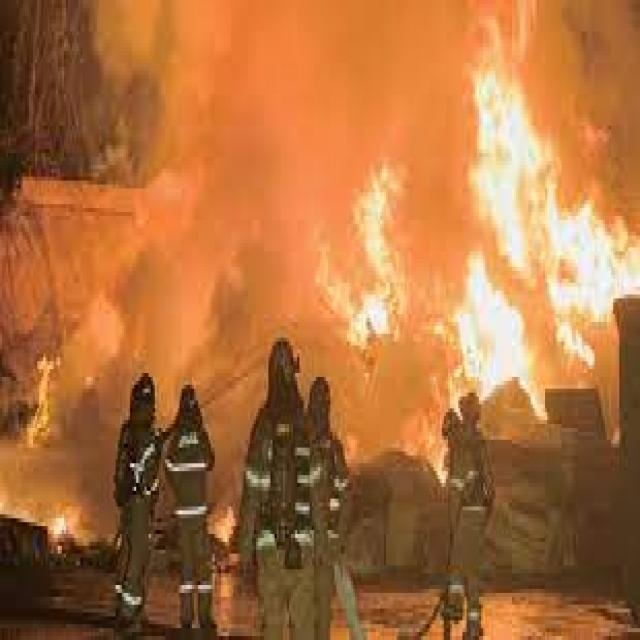Fire: (486, 121, 540, 252), (556, 222, 611, 320), (465, 298, 519, 392)
Smoke: (234, 21, 452, 142)
